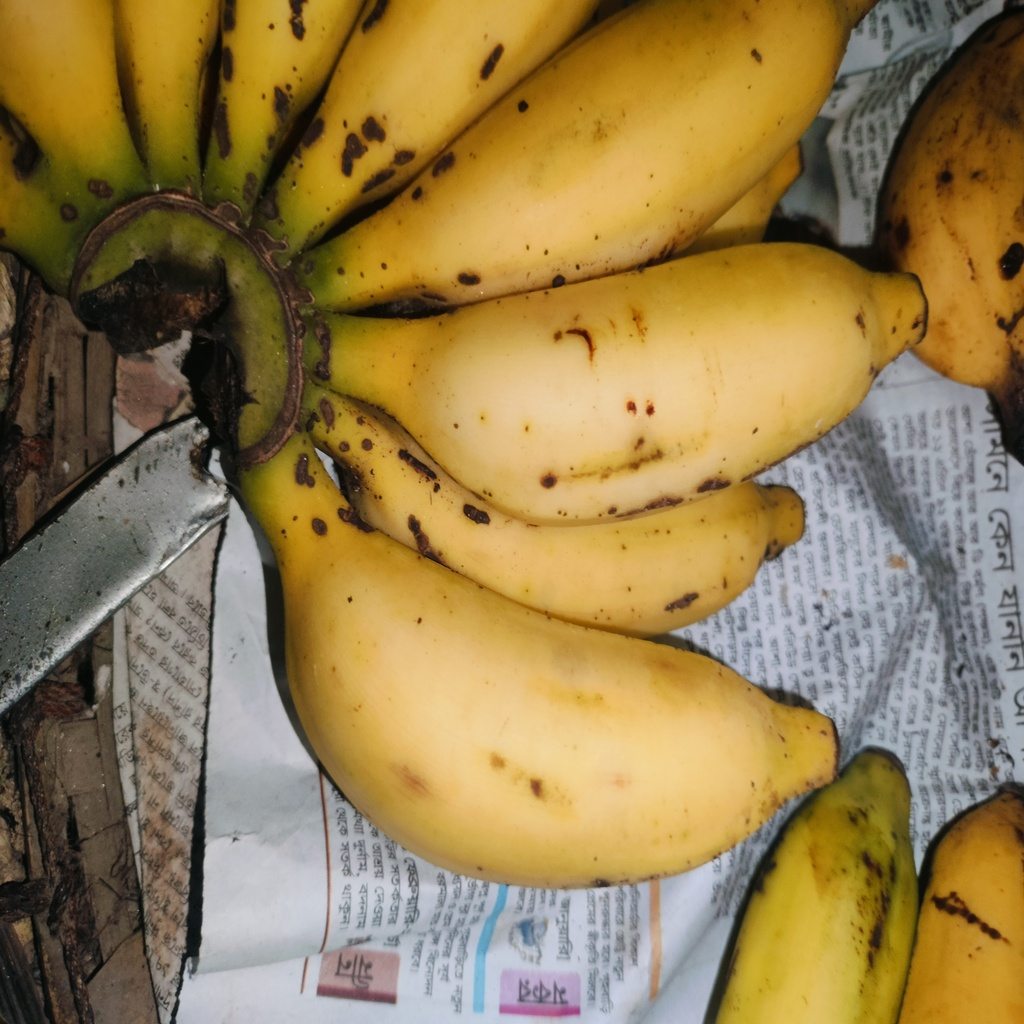unhealthy: (282, 494, 836, 885), (369, 242, 928, 524)
